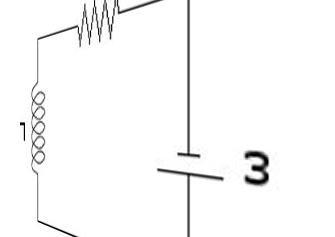resistor: (54, 0, 137, 44)
